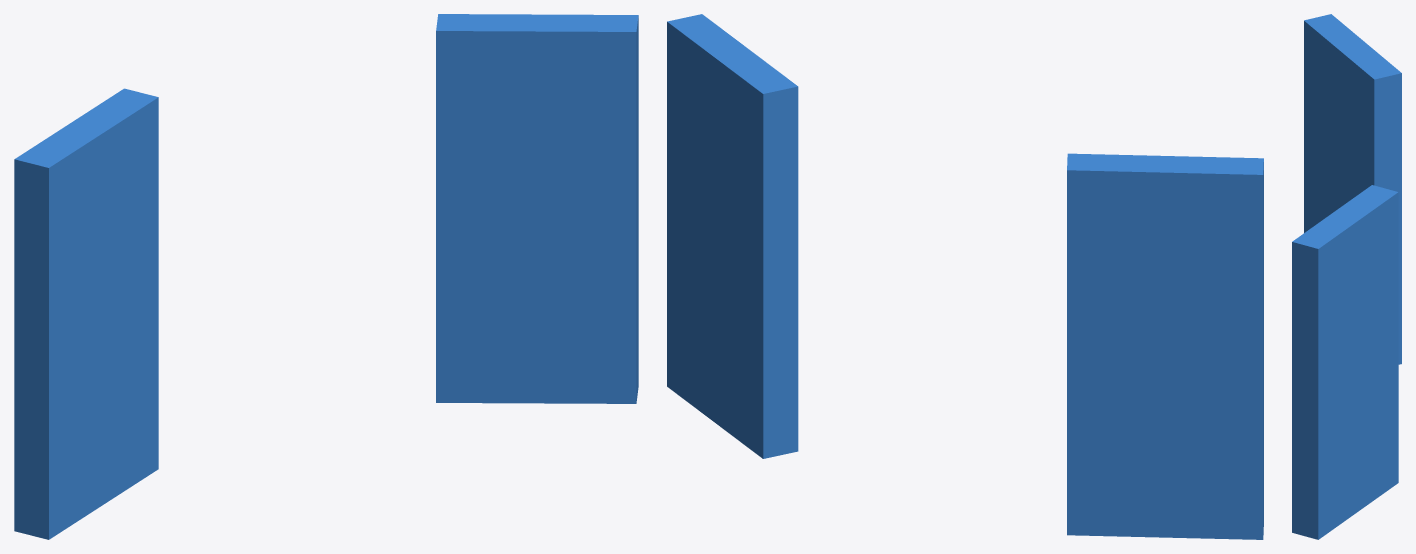
Rendered from Collision_WindowShutters_Wide_Flat_Open.fbx.
The picture shows the model from 3 angles, left to right: view 1: azimuth 30°, elevation 25°; view 2: azimuth 150°, elevation 25°; view 3: azimuth 270°, elevation 25°; orthographic projection. The views are drawn at different scales.
Parts seen in each view (by area): view 1: UCX_WindowShutters_Wide_Flat_Open_1; view 2: UCX_WindowShutters_Wide_Flat_Open_1; view 3: UCX_WindowShutters_Wide_Flat_Open_1.
Part boxes in pixels (bbox=[...]): UCX_WindowShutters_Wide_Flat_Open_1: bbox=[14, 14, 638, 539]; UCX_WindowShutters_Wide_Flat_Open_1: bbox=[667, 14, 1263, 539]; UCX_WindowShutters_Wide_Flat_Open_1: bbox=[1292, 14, 1401, 539].
Bounding box in the file's own units: 253 × 146 × 50.04.
